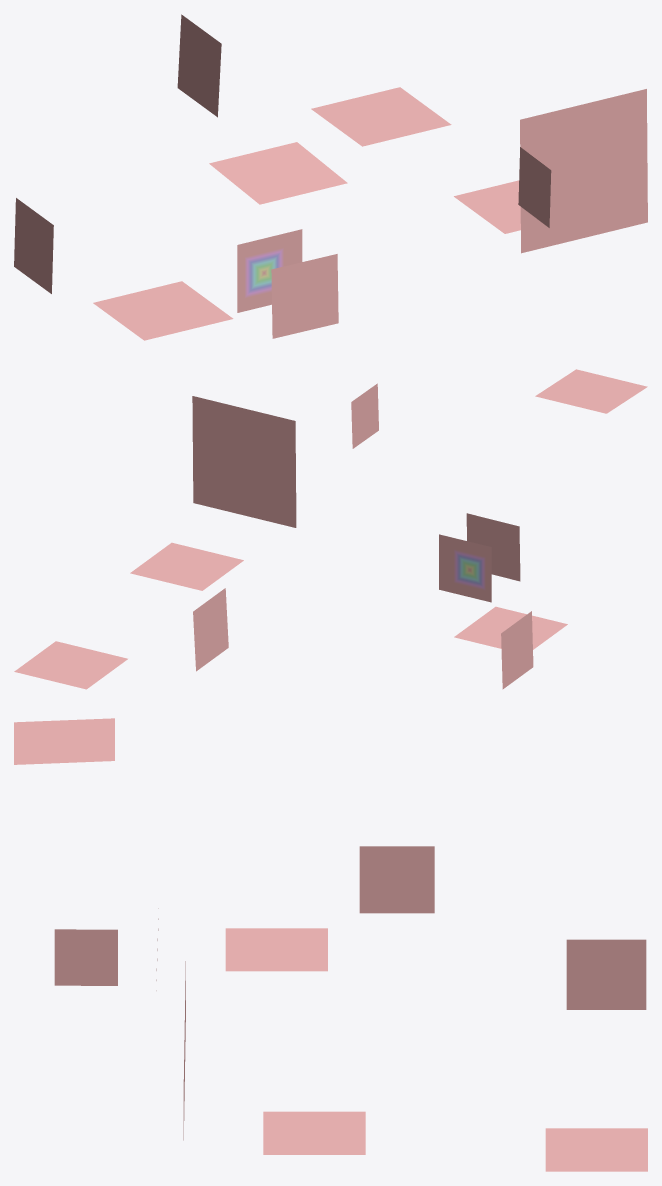
The model's file is portalWalls.obj.
3 views of the same model, one above another, from view 1: azimuth 30°, elevation 25°; view 2: azimuth 150°, elevation 25°; view 3: azimuth 270°, elevation 25° (orthographic). The views are drawn at different scales.
Parts seen in each view (by area): view 1: Plane.004_Plane.000; view 2: Plane.004_Plane.000; view 3: Plane.004_Plane.000.
Part boxes in pixels (<box>): Plane.004_Plane.000: <box>14,14,647,340</box>; Plane.004_Plane.000: <box>14,369,647,689</box>; Plane.004_Plane.000: <box>14,718,647,1171</box>.
Size of the model in its own units: 63.65 by 27.92 by 69.53.
Materials: 1 (1 with a texture image).
